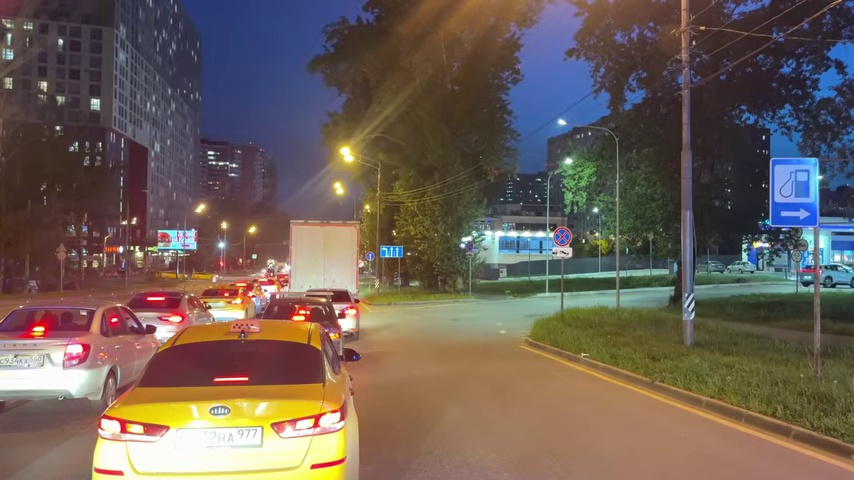acesa: (336, 143, 360, 169), (330, 180, 349, 199), (192, 200, 210, 217), (246, 222, 260, 238)
